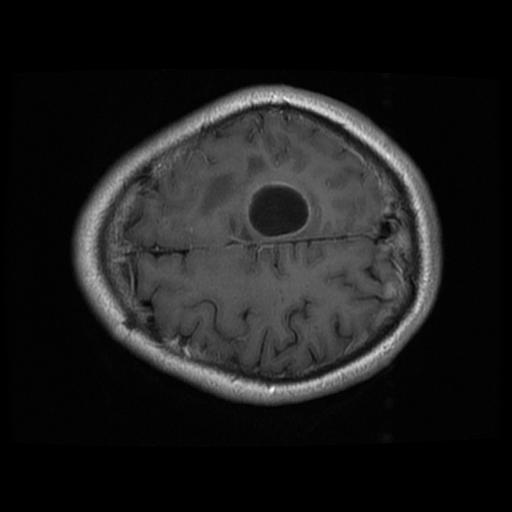glioma: (242, 181, 311, 240)
